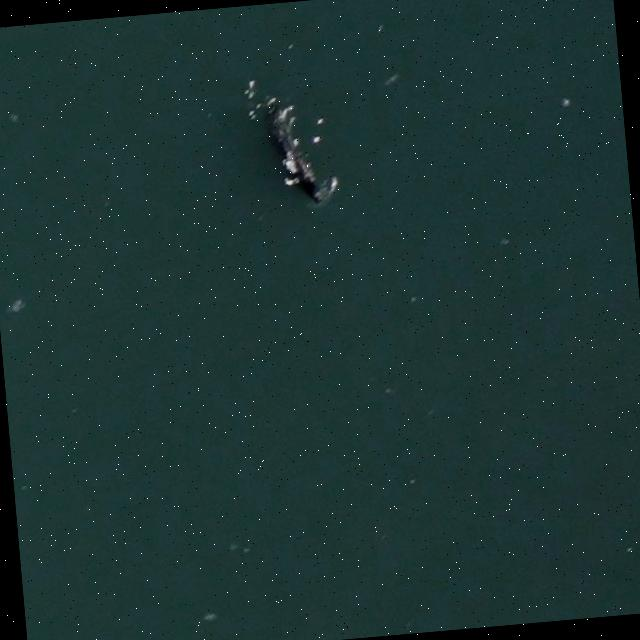seal: (256, 93, 329, 212)
